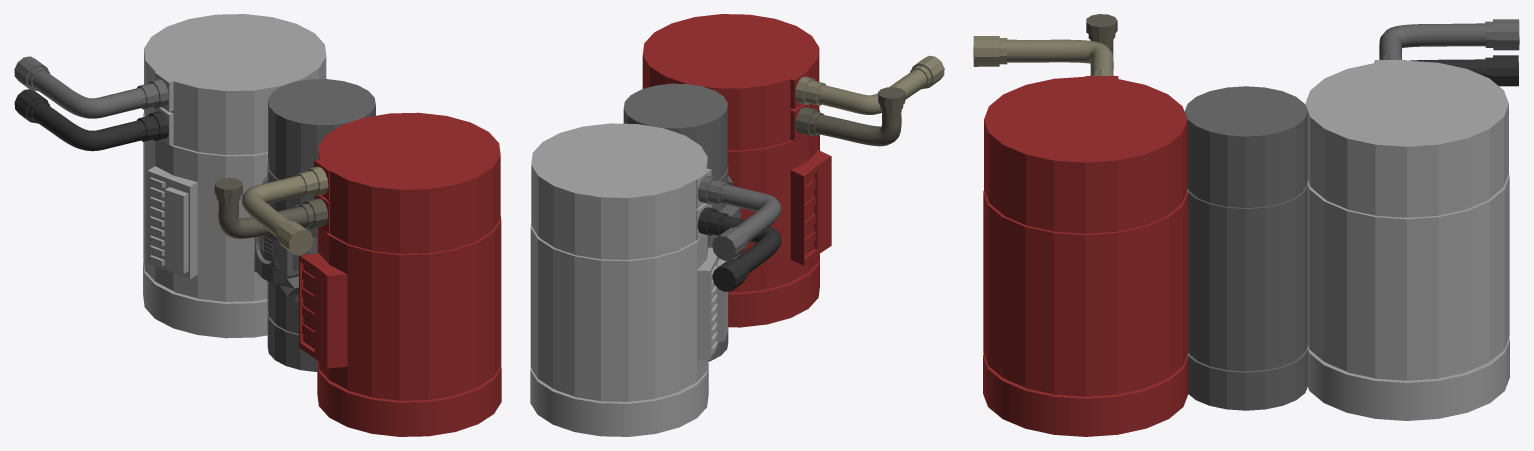
File: Engines_UVd.fbx
3 views of the same model, side by side, from view 1: azimuth 30°, elevation 25°; view 2: azimuth 150°, elevation 25°; view 3: azimuth 270°, elevation 25° (orthographic). The views are drawn at different scales.
Parts seen in each view (by area): view 1: engines3, engines, engines2, sweep5, sweep4, pipeRight, pipeUp; view 2: engines, engines3, engines2, sweep5, pipeUp, pipeRight, sweep4; view 3: engines3, engines, engines2, sweep5, pipeRight, sweep4, pipeUp.
Part boxes in pixels (left/top/right/bottom): engines3: left=299, top=112, right=501, bottom=436; engines: left=143, top=14, right=326, bottom=338; engines2: left=254, top=79, right=375, bottom=371; sweep5: left=14, top=56, right=168, bottom=118; sweep4: left=14, top=89, right=168, bottom=151; pipeRight: left=242, top=166, right=328, bottom=255; pipeUp: left=214, top=177, right=328, bottom=238; engines: left=530, top=123, right=727, bottom=436; engines3: left=642, top=14, right=831, bottom=327; engines2: left=623, top=83, right=740, bottom=361; sweep5: left=697, top=176, right=781, bottom=260; pipeUp: left=795, top=87, right=905, bottom=146; pipeRight: left=795, top=55, right=944, bottom=114; sweep4: left=697, top=207, right=781, bottom=291; engines3: left=983, top=76, right=1188, bottom=436; engines: left=1305, top=60, right=1509, bottom=420; engines2: left=1184, top=86, right=1308, bottom=410; sweep5: left=1379, top=19, right=1519, bottom=59; pipeRight: left=973, top=36, right=1113, bottom=75; sweep4: left=1409, top=55, right=1518, bottom=86; pipeUp: left=1086, top=14, right=1117, bottom=70.
Size of the model in its own units: 43.75 by 37.51 by 66.54.
